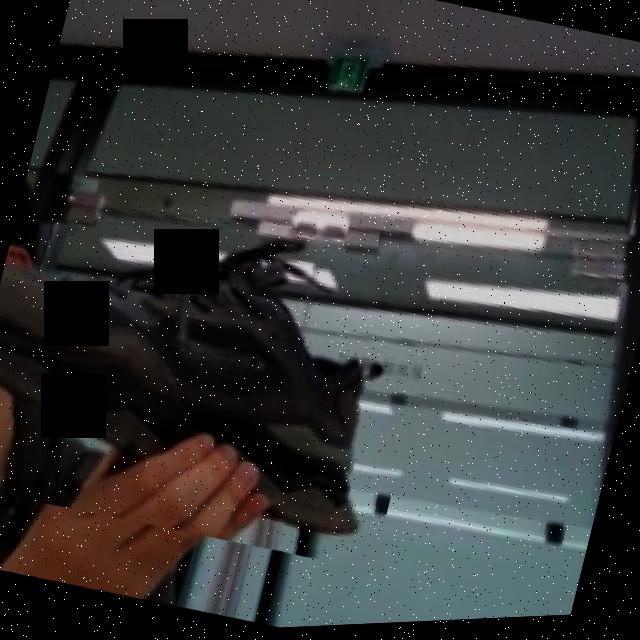shoe: (0, 148, 451, 586)
